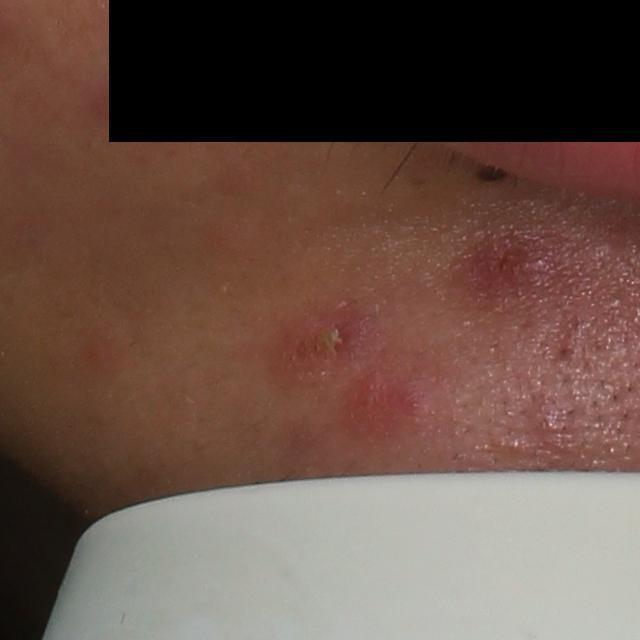nevus: (473, 159, 507, 182)
papule: (469, 231, 564, 293), (351, 370, 391, 419)
pustule: (279, 310, 369, 372)
